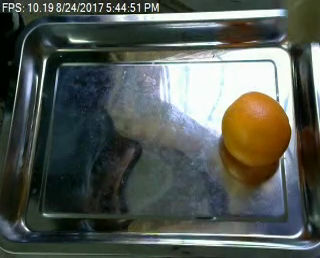Orange: (220, 90, 291, 169)
